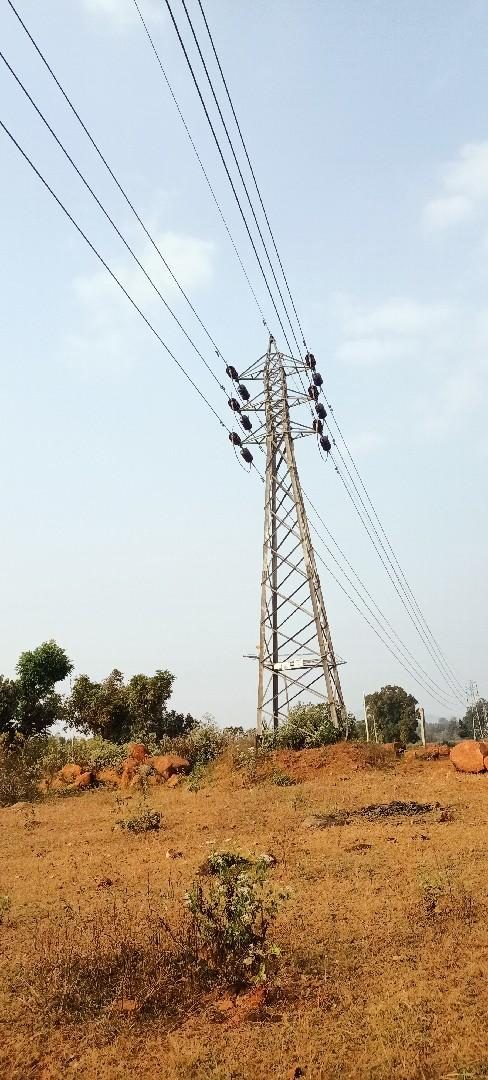GSM Antenna: (232, 332, 350, 715)
